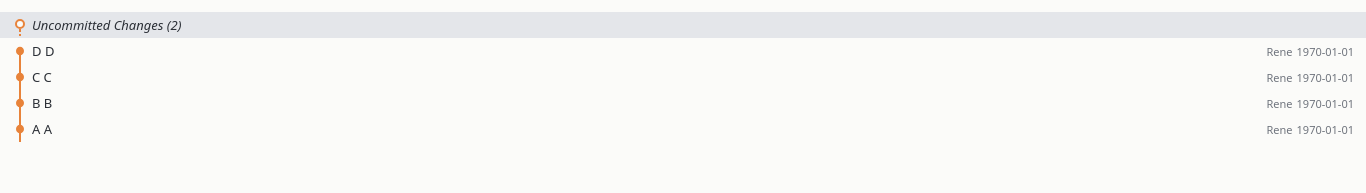
Test: CommitGraph › offers Compare these commits only with exactly two selected
Click the option "D D Rene 1970-01-01" at coordinates (1325, 51), box [0,38,1365,64]
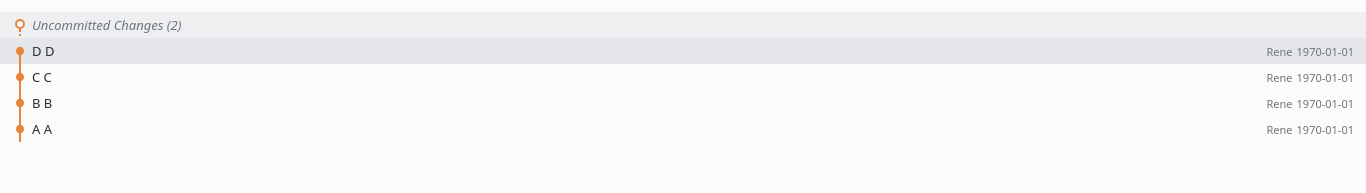
Click the option "B B Rene 1970-01-01" at coordinates (1325, 103), box [0,90,1365,116]
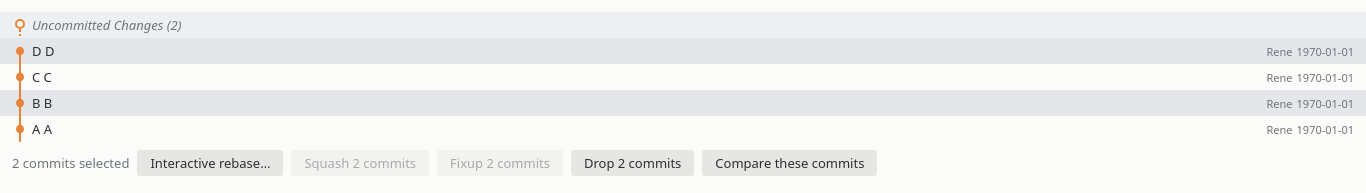
Expected: the button "Compare these commits" is enabled, [702,150,877,176]
Click the option "C C Rene 1970-01-01" at coordinates (1325, 77), box [0,64,1365,90]
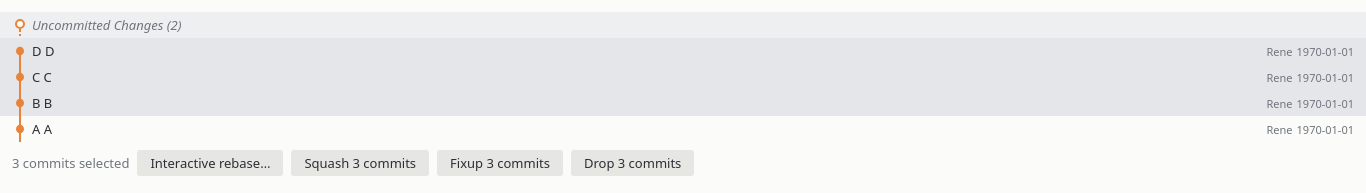
Expected: the button "Compare these commits" is gone
